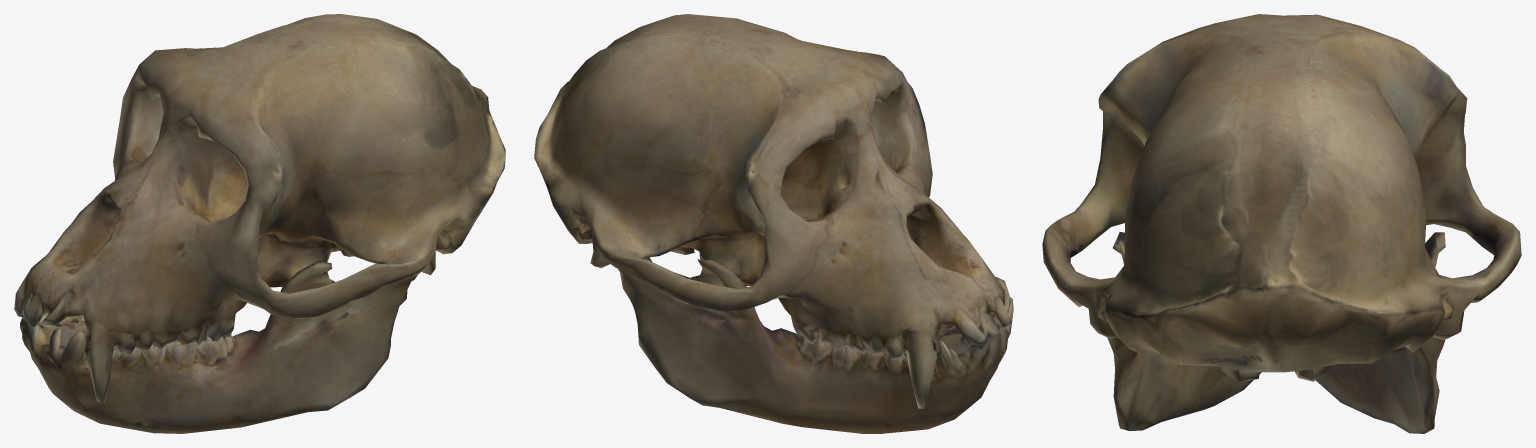
The model's file is rhesusskull.glb.
3 renders of one model, left to right at view 1: azimuth 30°, elevation 25°; view 2: azimuth 150°, elevation 25°; view 3: azimuth 270°, elevation 25°, orthographic. The views are drawn at different scales.
Size of the model in its own units: 0.1346 by 0.0988 by 0.101.
1 material, 1 textured.
